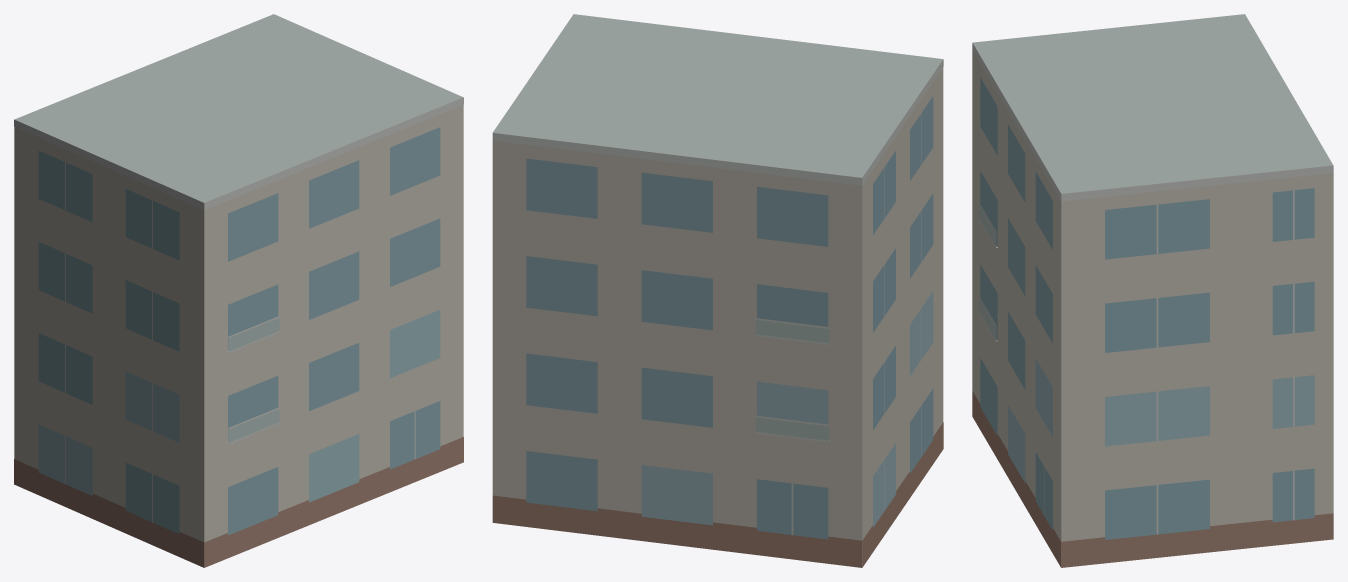
File: residential-1f97a2af-6cc4-4785-8482-39f0cba7db5b.glb
The picture shows the model from 3 angles, left to right: view 1: azimuth 30°, elevation 25°; view 2: azimuth 150°, elevation 25°; view 3: azimuth 270°, elevation 25°; orthographic projection. The views are drawn at different scales.
Parts seen in each view (by area): view 1: residential-1f97a2af-6cc4-4785-8482-39f0cba7db5b.tmp; view 2: residential-1f97a2af-6cc4-4785-8482-39f0cba7db5b.tmp; view 3: residential-1f97a2af-6cc4-4785-8482-39f0cba7db5b.tmp.
Part boxes in pixels (<box>): residential-1f97a2af-6cc4-4785-8482-39f0cba7db5b.tmp: <box>14,14,463,567</box>; residential-1f97a2af-6cc4-4785-8482-39f0cba7db5b.tmp: <box>492,14,943,567</box>; residential-1f97a2af-6cc4-4785-8482-39f0cba7db5b.tmp: <box>972,14,1333,567</box>.
Size of the model in its own units: 12.6 by 12.2 by 10.69.
